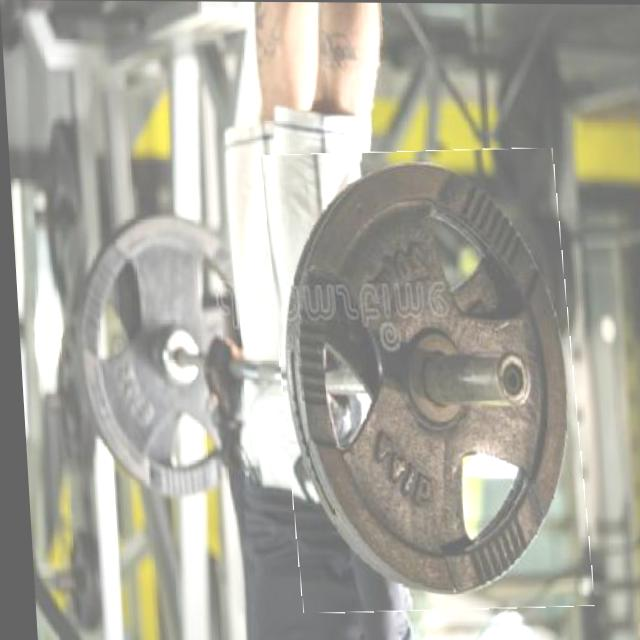barbell: (264, 148, 585, 612)
